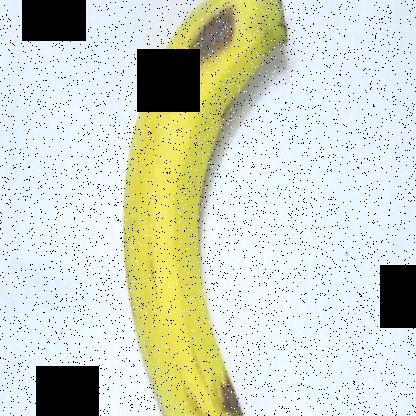freshripe: (104, 0, 313, 415)
